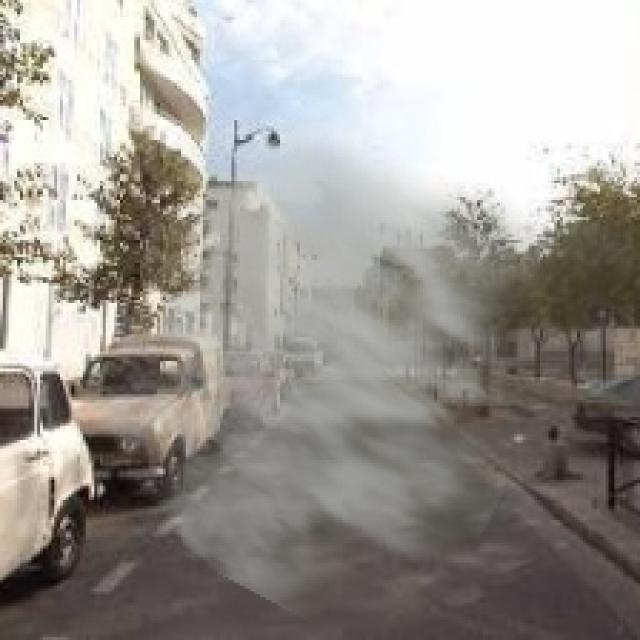Smoke: (77, 115, 609, 634)
